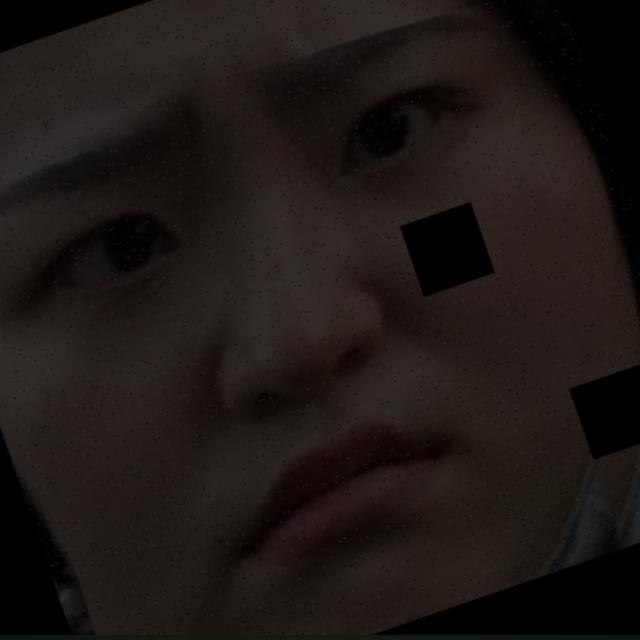Disgust: (14, 18, 590, 585)
